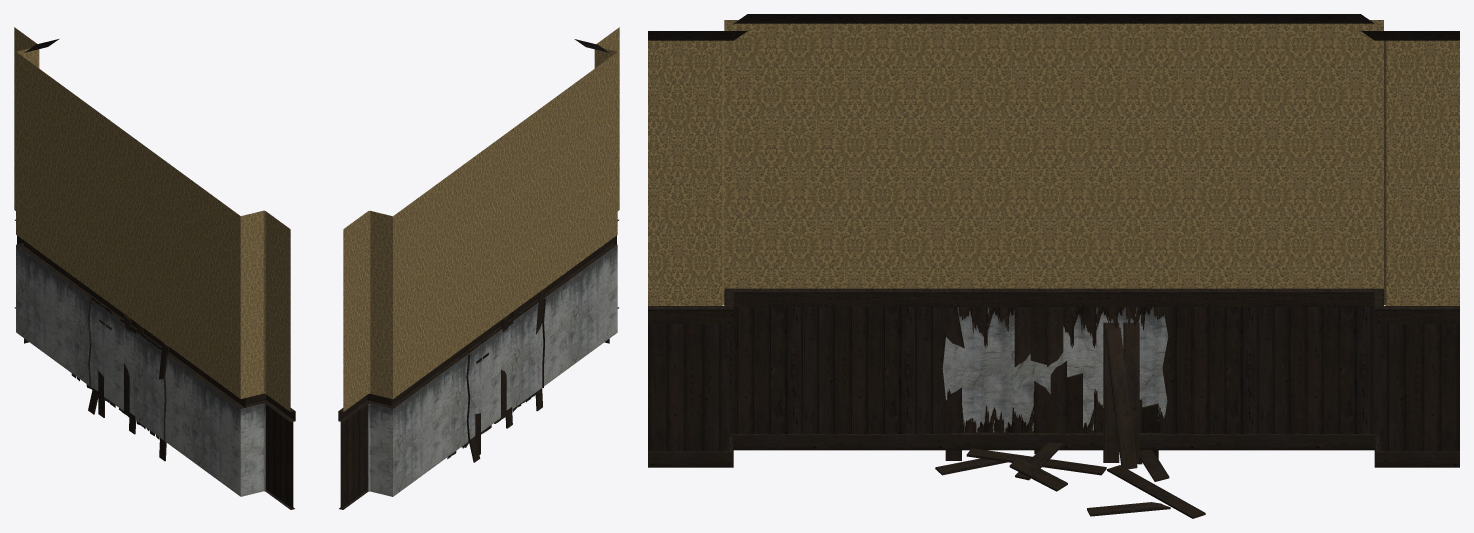
The model's file is #LVL_Wall_CleanB01.fbx.
3 renders of one model, left to right at view 1: azimuth 30°, elevation 25°; view 2: azimuth 150°, elevation 25°; view 3: azimuth 270°, elevation 25°, orthographic. The views are drawn at different scales.
Parts seen in each view (by area): view 1: Plane_009; view 2: Plane_009; view 3: Plane_009.
Boxes of the visible parts, left/top/right/bottom form: Plane_009: left=14, top=27, right=295, bottom=509; Plane_009: left=338, top=27, right=619, bottom=509; Plane_009: left=648, top=14, right=1459, bottom=518.
Bounding box in the file's own units: 4.51 × 12.45 × 20.
